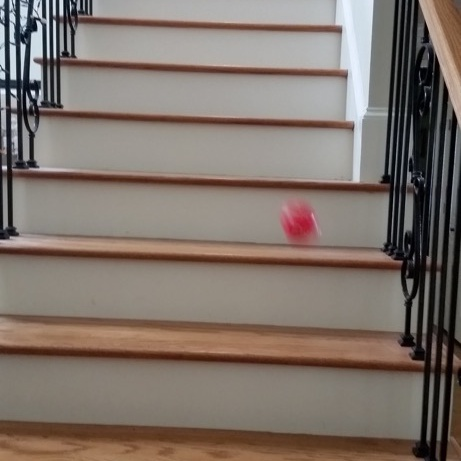ball: (278, 194, 322, 246)
